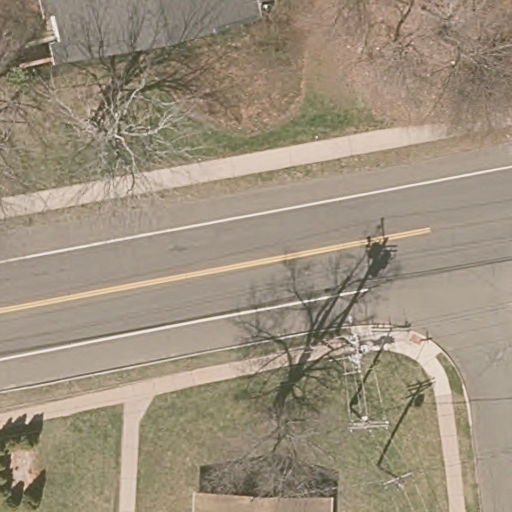DT: (347, 414, 413, 485), (330, 324, 391, 375)
